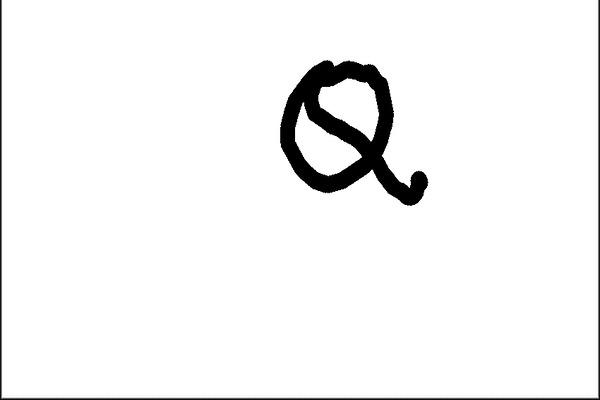Q: (265, 48, 431, 211)
